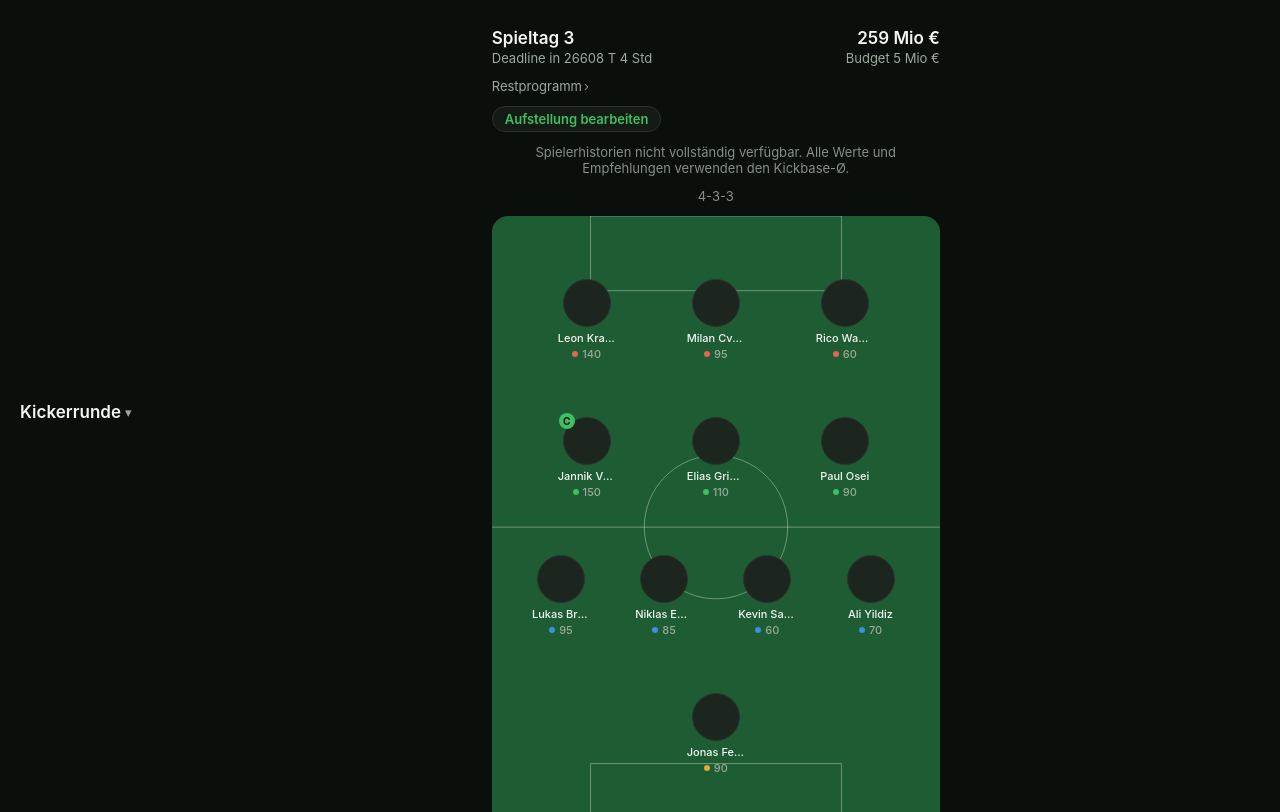
Test case: LineupScreen › zeigt einen Speicherfehler und bleibt im Bearbeitungsmodus
Click the button "Aufstellung bearbeiten" at (577, 119), box [492, 106, 662, 132]
(page scrolled)
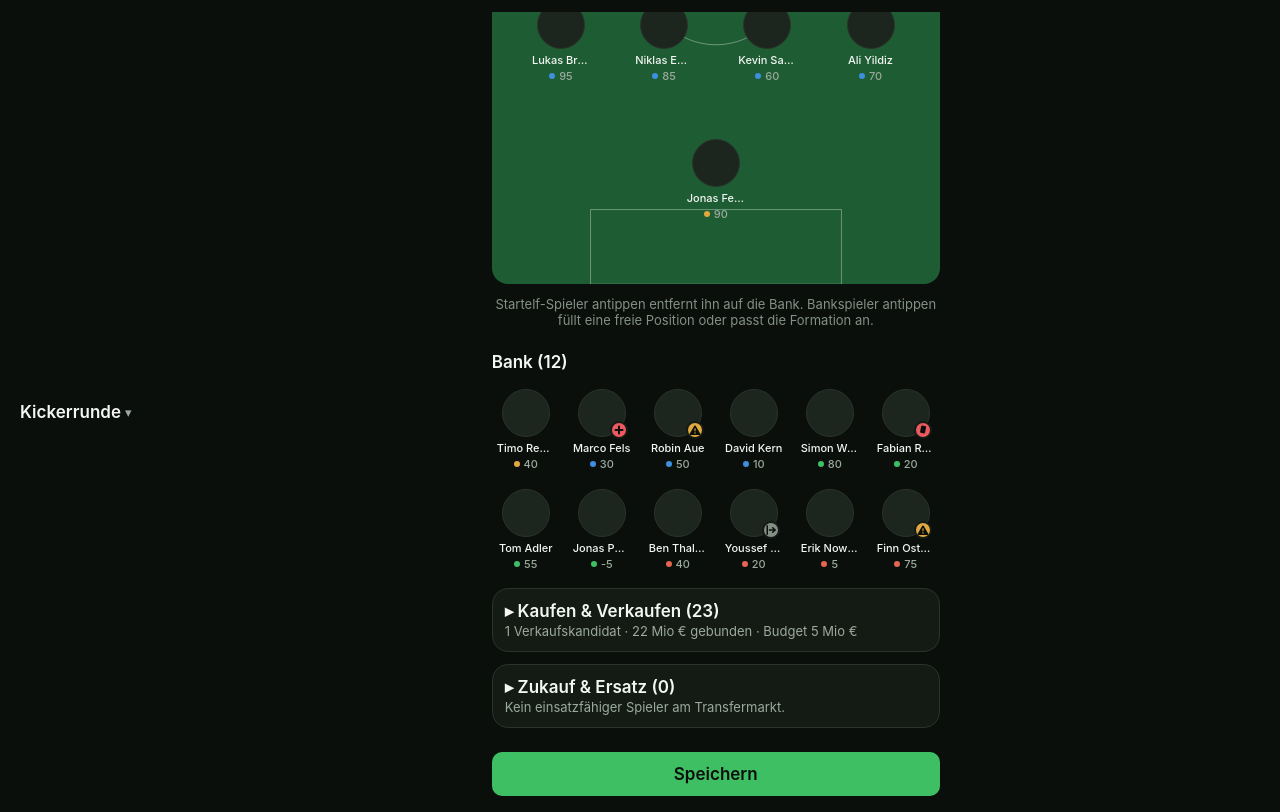
Click the button "Speichern" at (716, 774), box [492, 752, 940, 796]
(page scrolled)
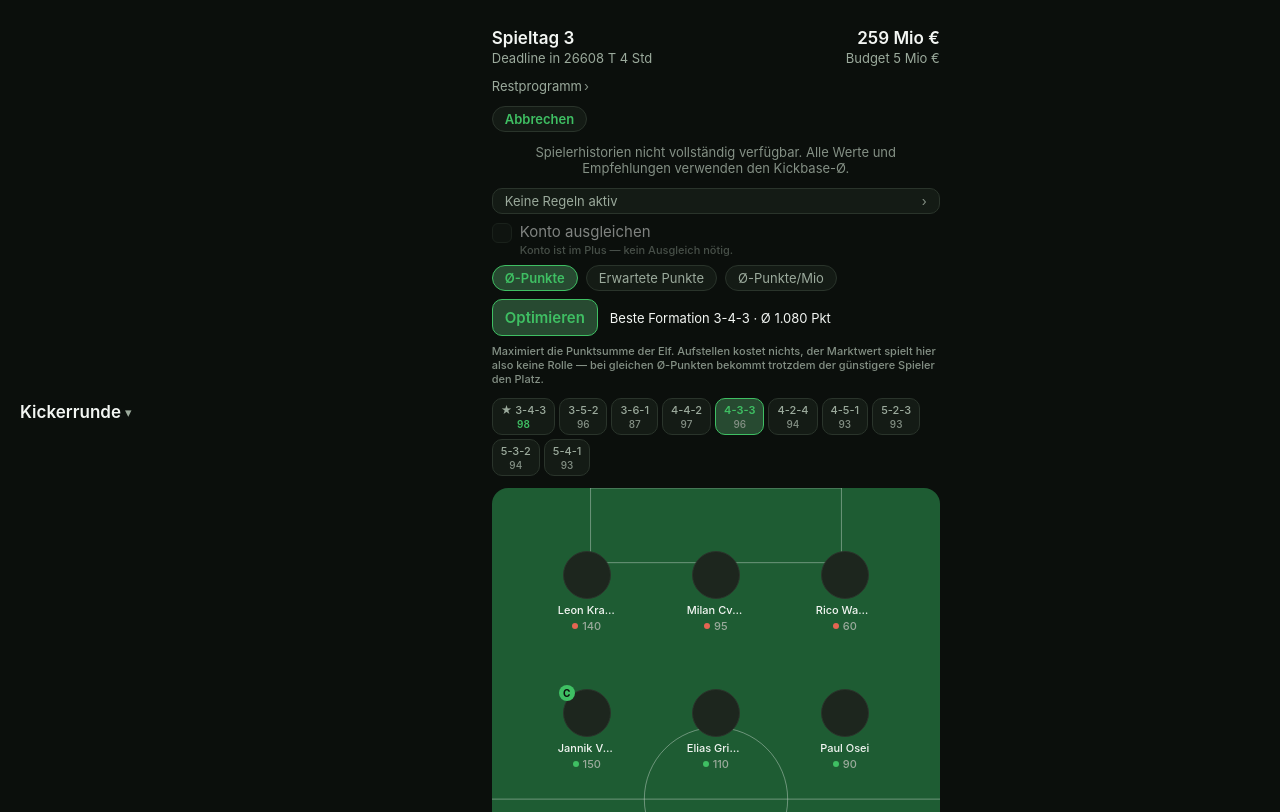
Now the button "Abbrechen" is shown, box [492, 106, 587, 132]
